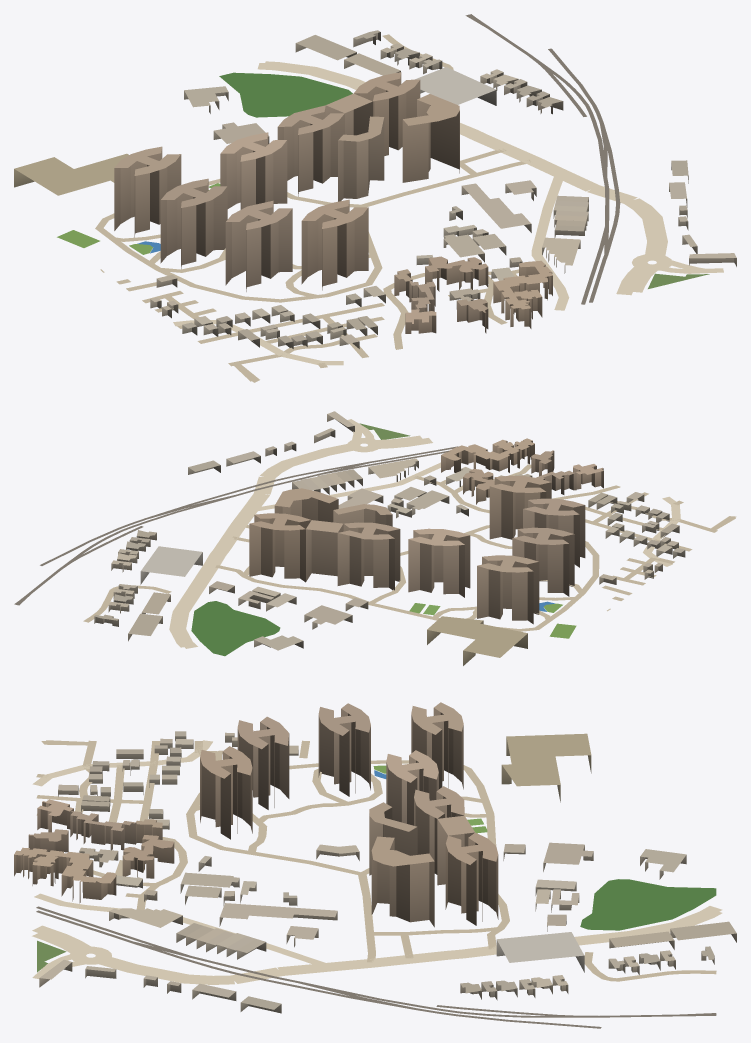
3 renders of one model, top to bottom at view 1: azimuth 30°, elevation 25°; view 2: azimuth 150°, elevation 25°; view 3: azimuth 270°, elevation 25°, orthographic. The views are drawn at different scales.
Visible parts, largest first — view 1: building, ground; view 2: building, ground; view 3: building, ground.
Boxes of the visible parts, x1,y1,x2,y2 form: building: (14,30,736,348); ground: (57,14,723,382); building: (94,411,685,665); ground: (14,419,736,656); building: (14,702,736,1013); ground: (32,740,722,1028).
Size of the model in its own units: 504 by 54 by 532.
